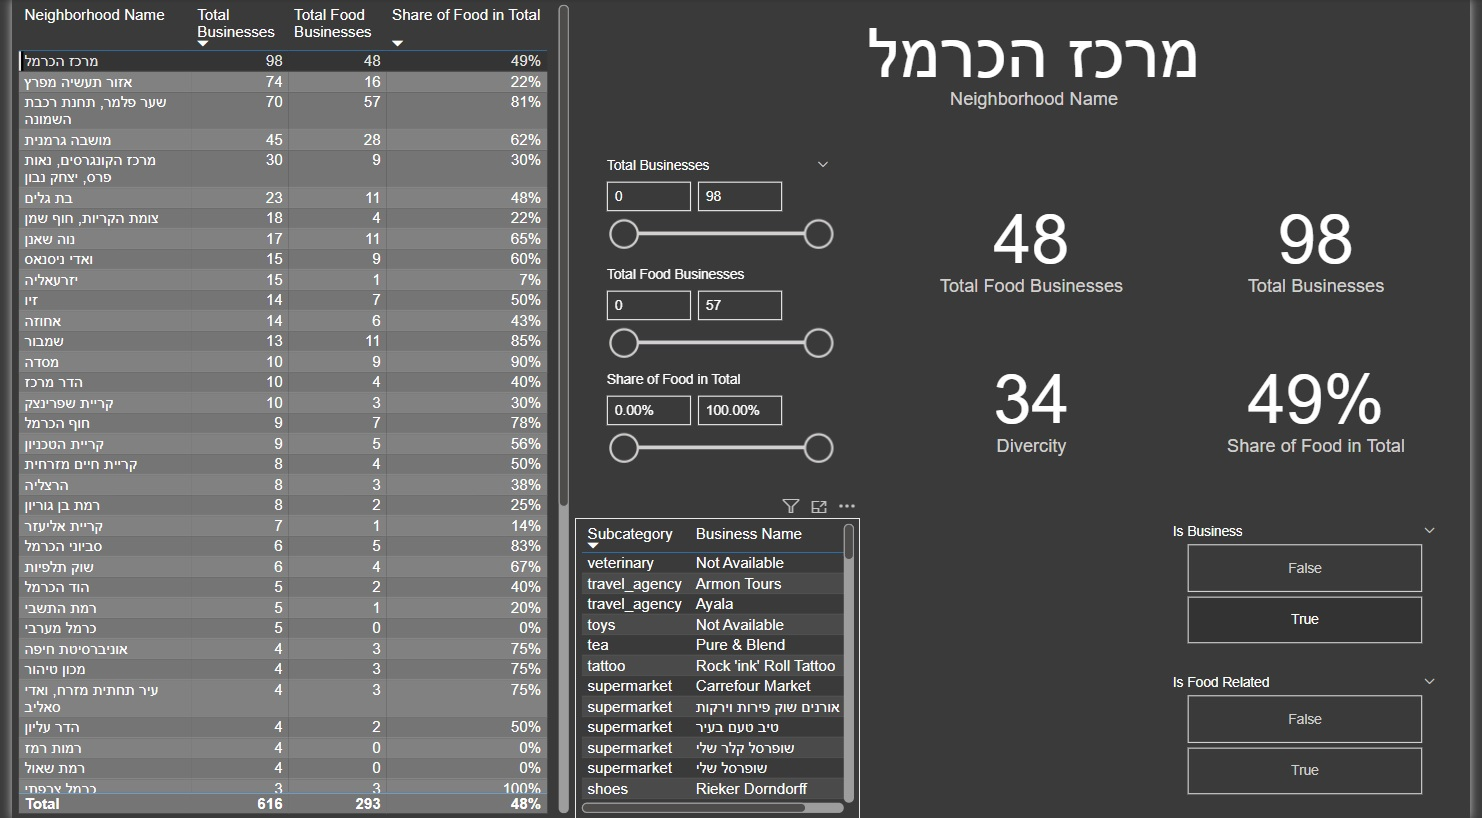

What the dashboard file says about the page in this screenshot:
{"tool":"powerbi","page":{"name":"Dashboard","canvas":[1280,720],"ordinal":0},"visuals":[{"type":"card","fields":{"Values":["msr.total_businesses"]},"box":[1027.3,150.1,235.3,129.1],"z":0},{"type":"card","fields":{"Values":["msr.total_food_businesses"]},"box":[785,150.1,220.4,129.1],"z":1000},{"type":"tableEx","fields":{"Values":["Haifa_dataset_to_BI.neighborhood_name","msr.total_businesses","msr.total_food_businesses","msr.share_food_in_total_%"]},"box":[0,0,494.3,720],"z":2000},{"type":"card","fields":{"Values":["msr.neighborhood_name"]},"box":[598,0,599,102],"z":3000},{"type":"card","fields":{"Values":["msr.share_food_in_total_%"]},"box":[1027.3,290.6,235.3,129.1],"z":4000},{"type":"card","fields":{"Values":["Max(Haifa_dataset_to_BI.divercity)"]},"box":[785,290.6,220.4,129.1],"z":5000},{"type":"tableEx","fields":{"Values":["Haifa_dataset_to_BI.subcategory","Haifa_dataset_to_BI.node_name"]},"box":[494.3,455.7,250.2,264.3],"z":6000},{"type":"slicer","fields":{"Values":["Haifa_dataset_to_BI.is_business"]},"box":[1006,456,256,117],"z":7000},{"type":"slicer","fields":{"Values":["Haifa_dataset_to_BI.is_food"]},"box":[1006,588,256,117],"z":8000},{"type":"slicer","fields":{"Values":["Haifa_dataset_to_BI.total_businesses"]},"box":[509.3,134.3,220.4,97.5],"z":8001},{"type":"slicer","fields":{"Values":["Haifa_dataset_to_BI.total_food_businesses"]},"box":[509.3,230,220.4,97.5],"z":8002},{"type":"slicer","fields":{"Values":["Haifa_dataset_to_BI.share_food_in_total_%"]},"box":[509.3,322.2,220.4,97.5],"z":8003}]}

Visuals, with their boxes in screenshot pixels (x1, y1, x2, y2), scaled from the page's 1280x720 canvas onto the 1482x818 screenshot:
card - msr.total_businesses: [x1=1189, y1=171, x2=1462, y2=317]
card - msr.total_food_businesses: [x1=909, y1=171, x2=1164, y2=317]
tableEx - Haifa_dataset_to_BI.neighborhood_name x msr.total_businesses: [x1=0, y1=0, x2=572, y2=817]
card - msr.neighborhood_name: [x1=692, y1=0, x2=1386, y2=116]
card - msr.share_food_in_total_%: [x1=1189, y1=330, x2=1462, y2=477]
card - Max(Haifa_dataset_to_BI.divercity): [x1=909, y1=330, x2=1164, y2=477]
tableEx - Haifa_dataset_to_BI.subcategory x Haifa_dataset_to_BI.node_name: [x1=572, y1=518, x2=862, y2=817]
slicer - Haifa_dataset_to_BI.is_business: [x1=1165, y1=518, x2=1461, y2=651]
slicer - Haifa_dataset_to_BI.is_food: [x1=1165, y1=668, x2=1461, y2=801]
slicer - Haifa_dataset_to_BI.total_businesses: [x1=590, y1=153, x2=845, y2=263]
slicer - Haifa_dataset_to_BI.total_food_businesses: [x1=590, y1=261, x2=845, y2=372]
slicer - Haifa_dataset_to_BI.share_food_in_total_%: [x1=590, y1=366, x2=845, y2=477]
